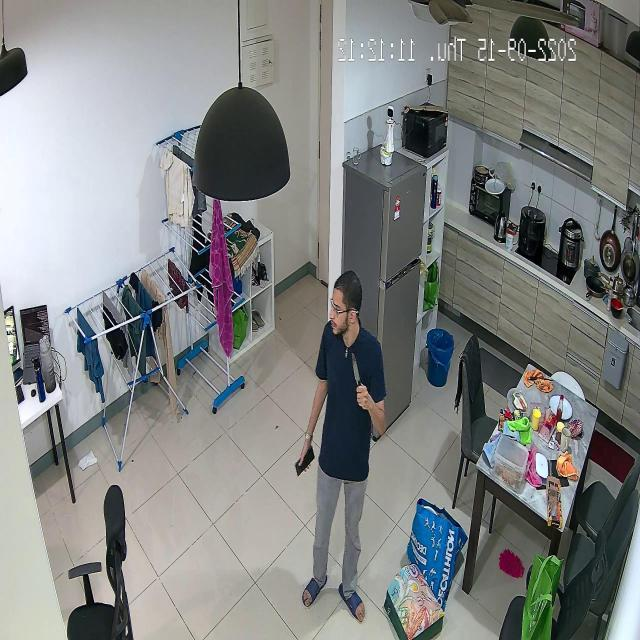Knife: (342, 349, 376, 404)
